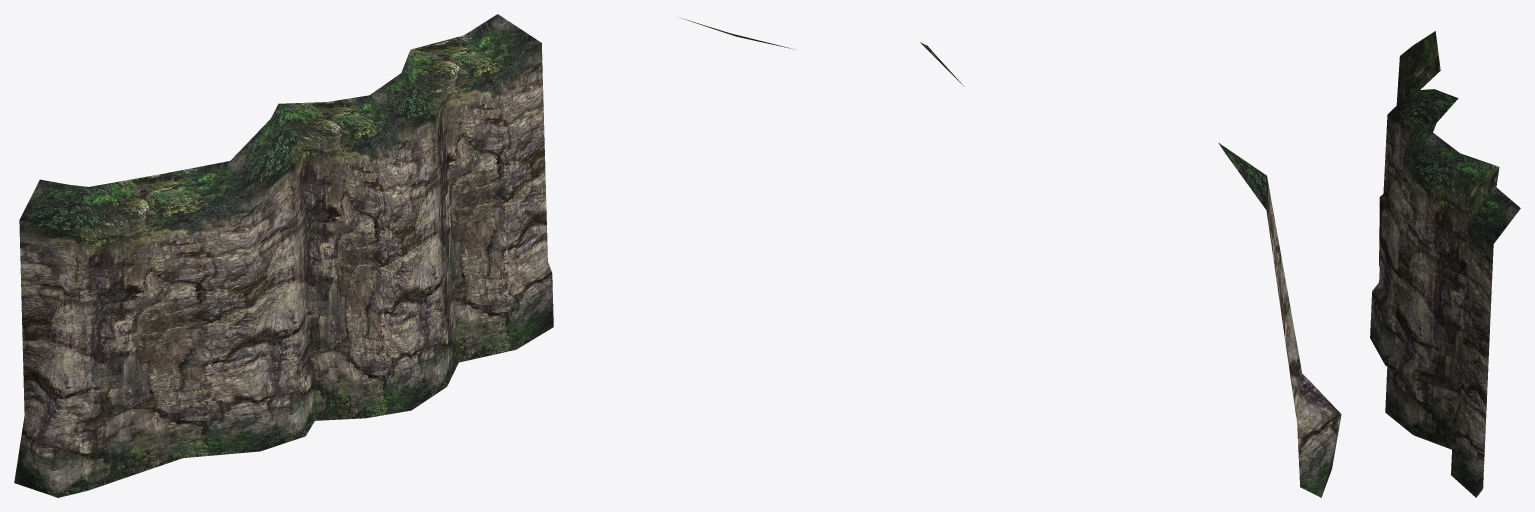
File: stone_cliff01_01.glb
3 renders of one model, left to right at view 1: azimuth 30°, elevation 25°; view 2: azimuth 150°, elevation 25°; view 3: azimuth 270°, elevation 25°, orthographic. The views are drawn at different scales.
Parts seen in each view (by area): view 1: stone_clif01_01; view 2: stone_clif01_01; view 3: stone_clif01_01.
Part boxes in pixels (x1,y1,x2,y2): stone_clif01_01: [14, 14, 553, 497]; stone_clif01_01: [681, 18, 1341, 497]; stone_clif01_01: [1370, 31, 1520, 497].
Bounding box in the file's own units: 165 × 84.28 × 41.8.
Materials: 1 (1 with a texture image).
